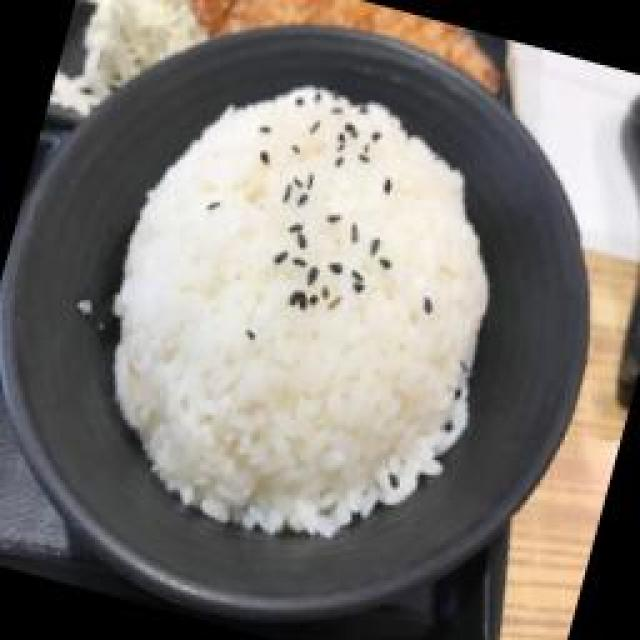Wet Waste: (53, 40, 545, 582)
